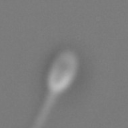normal: (29, 89, 57, 128)
